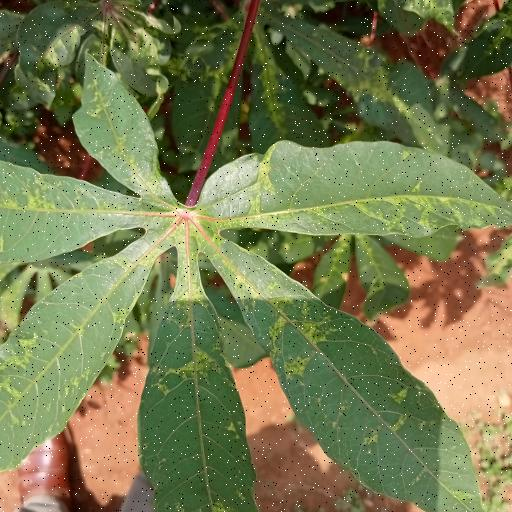Cassava_Healthy: (7, 51, 501, 512)
